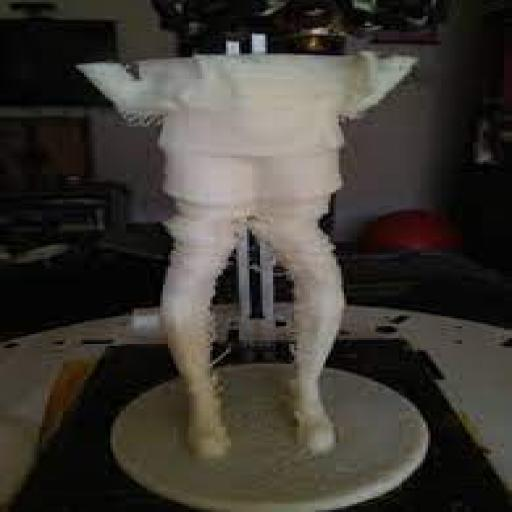spaghetti: (235, 241, 315, 426), (194, 265, 245, 428), (106, 102, 172, 150)
